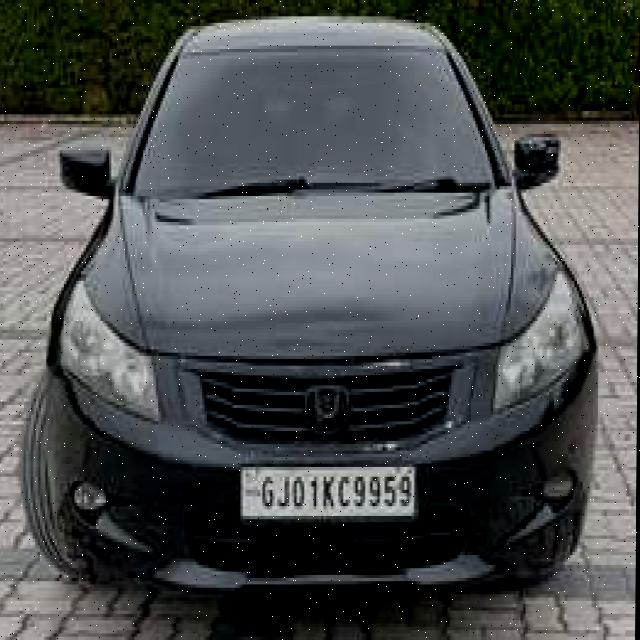plate: (236, 460, 420, 522)
